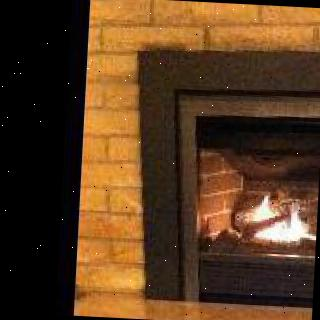fire: (217, 135, 320, 256)
